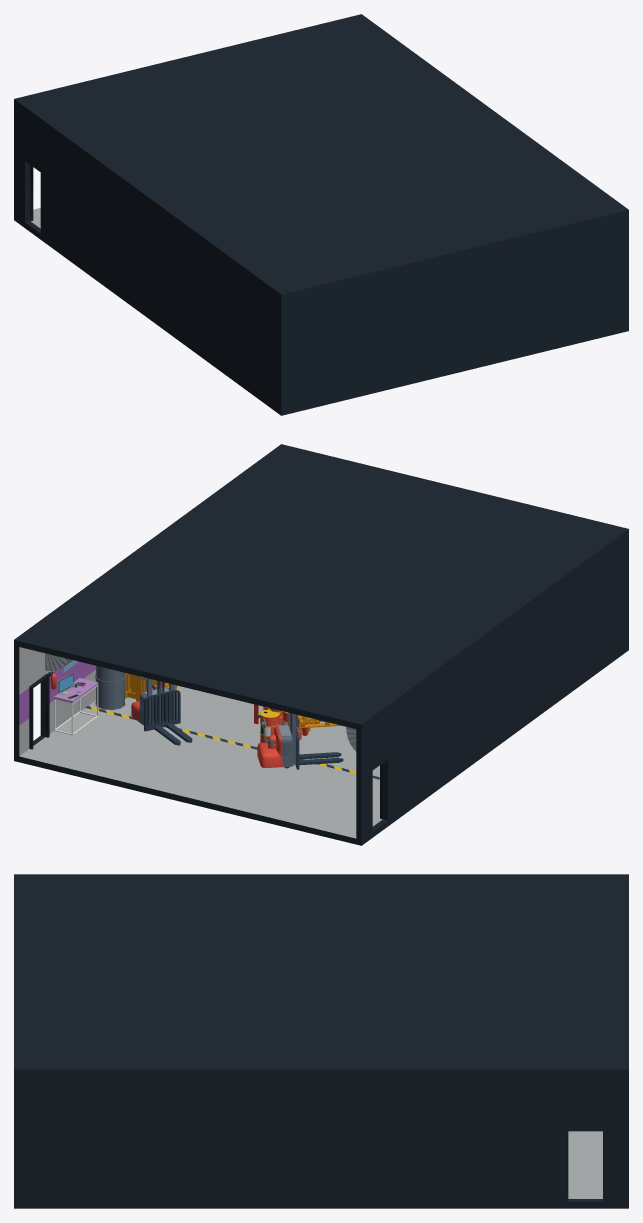
The model's file is Room_stockage_002.fbx.
3 views of the same model, one above another, from view 1: azimuth 30°, elevation 25°; view 2: azimuth 150°, elevation 25°; view 3: azimuth 270°, elevation 25° (orthographic). The views are drawn at different scales.
Parts seen in each view (by area): view 1: Cube.033; view 2: Cube.033; view 3: Cube.033.
Part boxes in pixels (x1,y1,x2,y2): Cube.033: [14, 14, 628, 415]; Cube.033: [14, 444, 628, 845]; Cube.033: [14, 874, 628, 1208].
Size of the model in its own units: 1200 by 400 by 1598.
